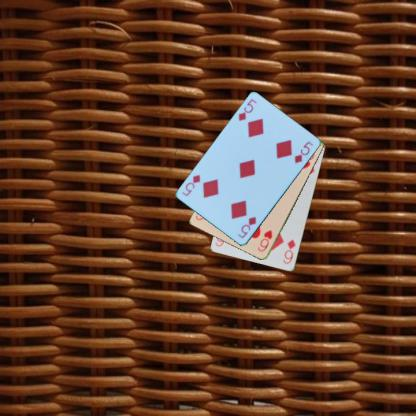5d: (235, 214, 258, 240), (235, 96, 258, 122)
6d: (281, 237, 297, 265)
6h: (255, 228, 274, 253)
